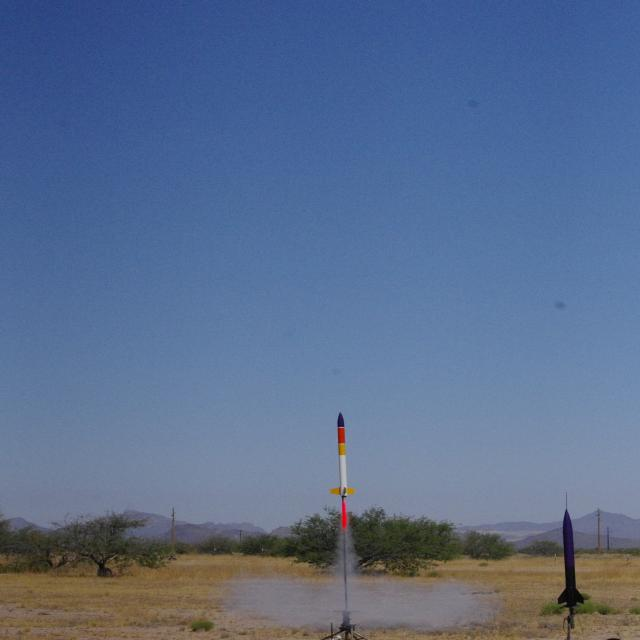Rocket: (558, 508, 584, 606), (330, 412, 356, 498)
